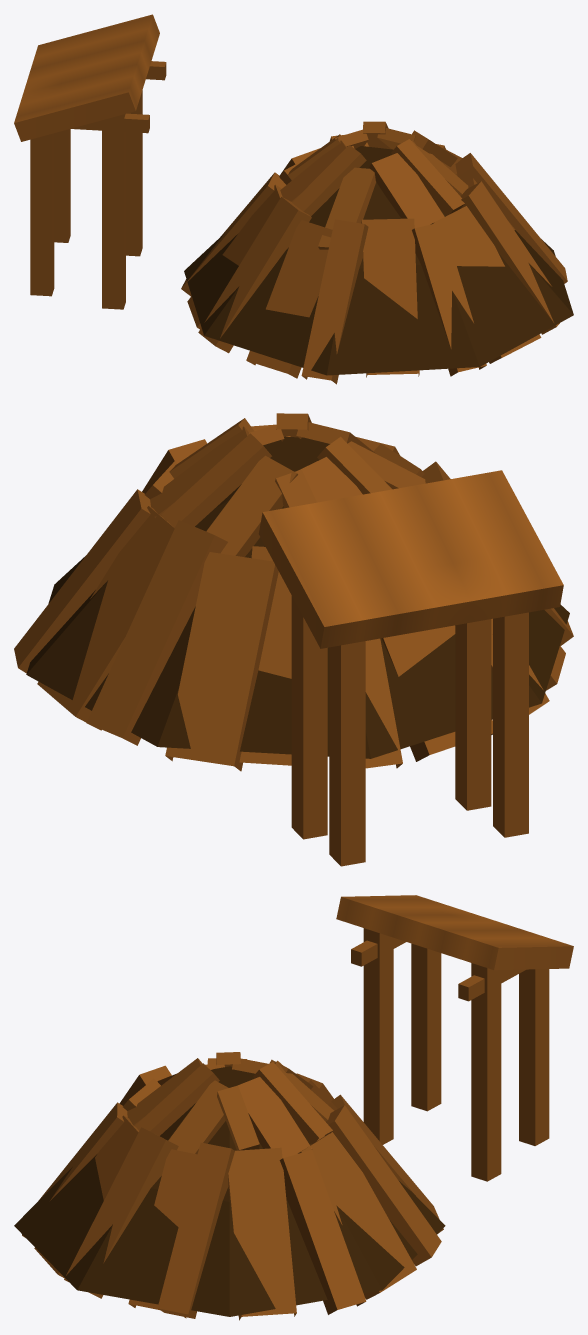
File: charcoalmaker.fbx
3 renders of one model, top to bottom at view 1: azimuth 30°, elevation 25°; view 2: azimuth 150°, elevation 25°; view 3: azimuth 270°, elevation 25°, orthographic. The views are drawn at different scales.
Visible parts, largest first — view 1: polySurface126; view 2: polySurface126; view 3: polySurface126.
Boxes of the visible parts, x1,y1,x2,y2 form: polySurface126: (14, 14, 573, 384); polySurface126: (14, 413, 573, 866); polySurface126: (14, 895, 573, 1320).
Size of the model in its own units: 111 by 54.17 by 112.
1 material, 1 textured.
